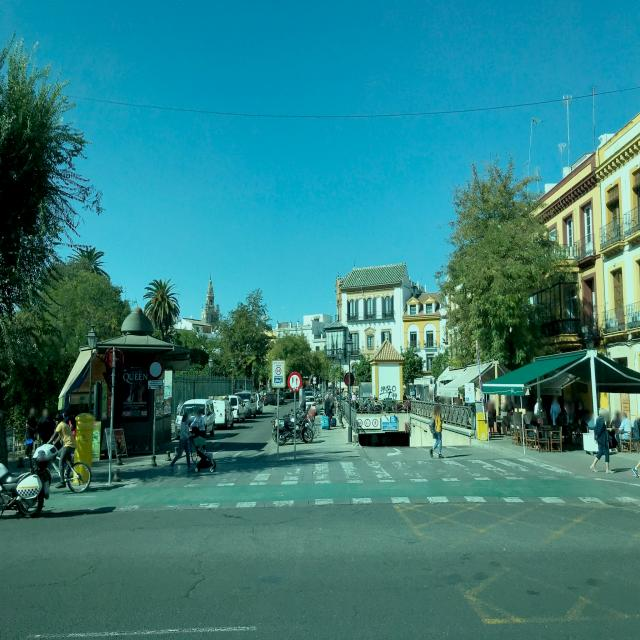bike: (0, 442, 45, 520), (31, 441, 91, 496), (279, 407, 315, 445)
car: (177, 398, 216, 439), (210, 397, 234, 429), (234, 389, 256, 418), (226, 394, 247, 422), (252, 391, 264, 414), (305, 393, 318, 412), (263, 391, 277, 407)
